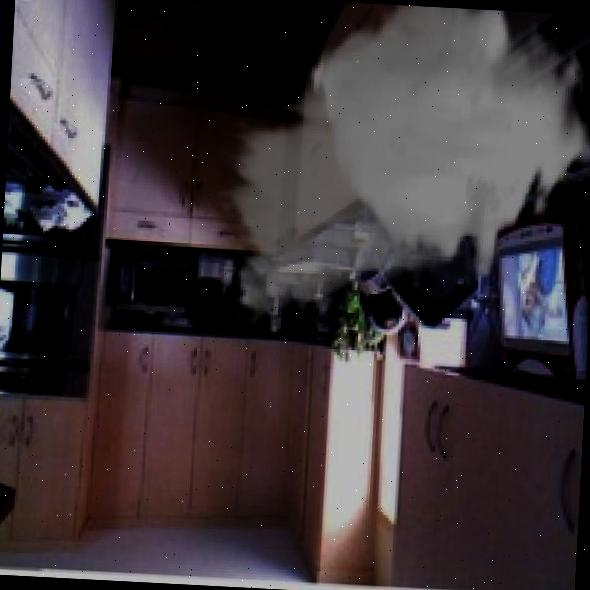smoke: (209, 0, 590, 351)
